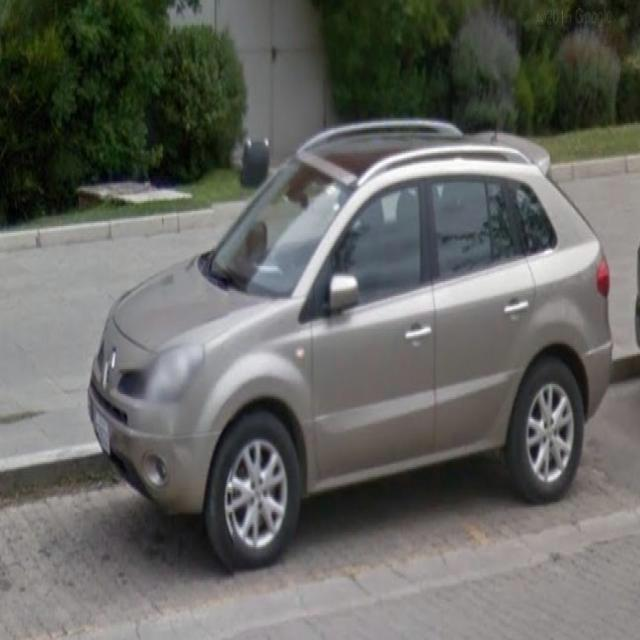Car: (94, 130, 616, 564)
